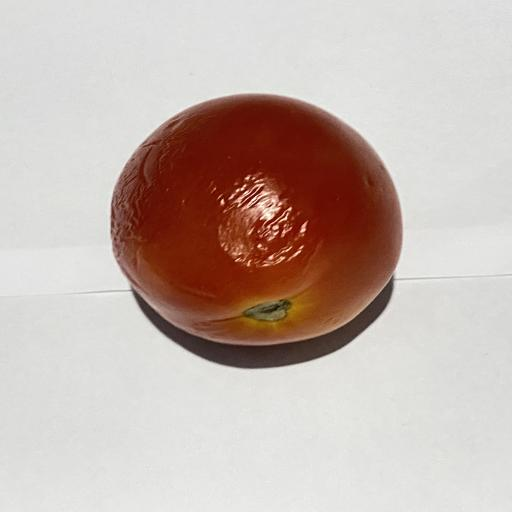spoiled: (111, 94, 402, 345)
